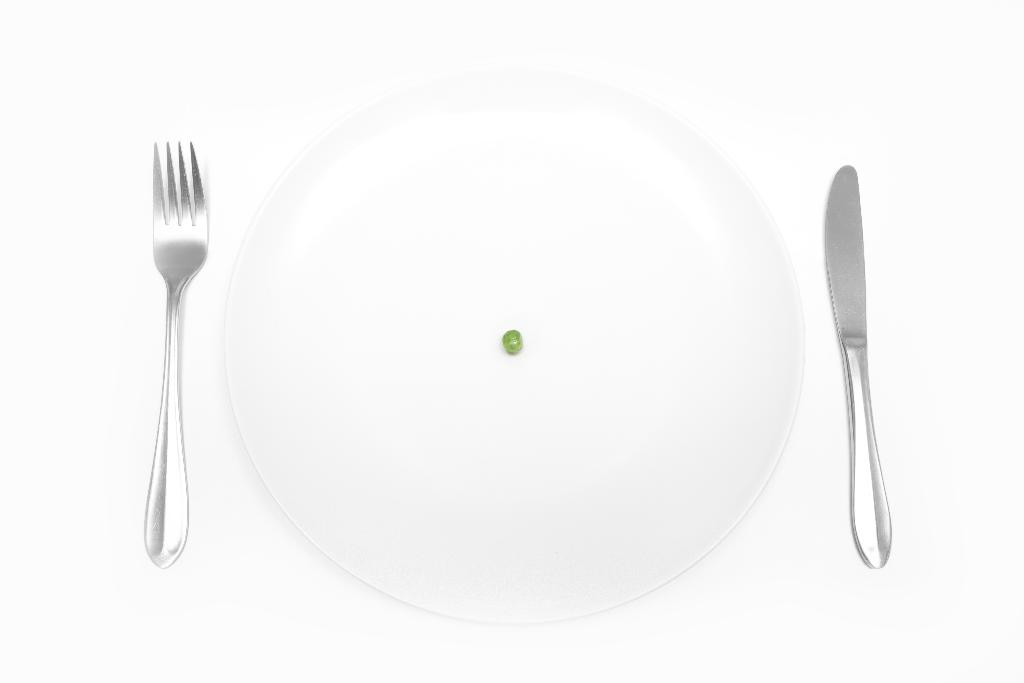plate: (223, 73, 806, 623)
